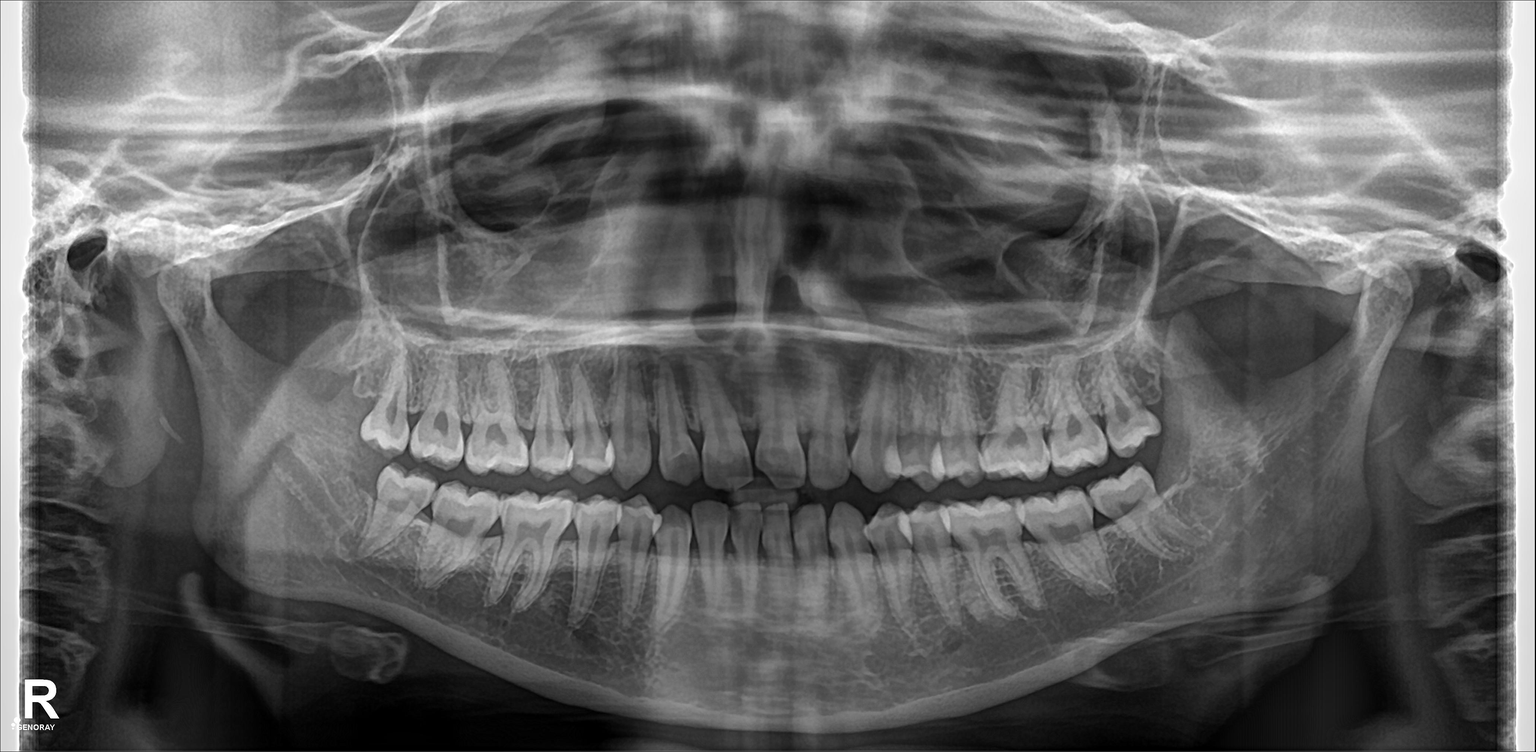Dental Caries: (663, 445, 706, 480)
